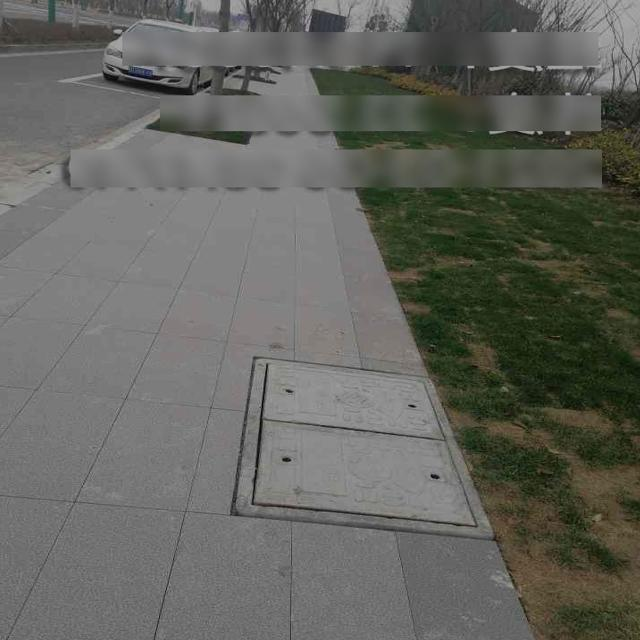good: (233, 370, 501, 542)
